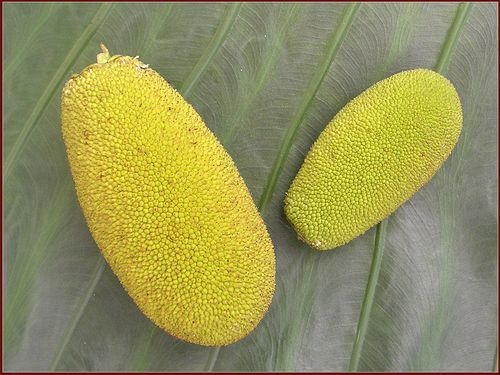jackfruit: (61, 40, 275, 346), (282, 67, 463, 251)
